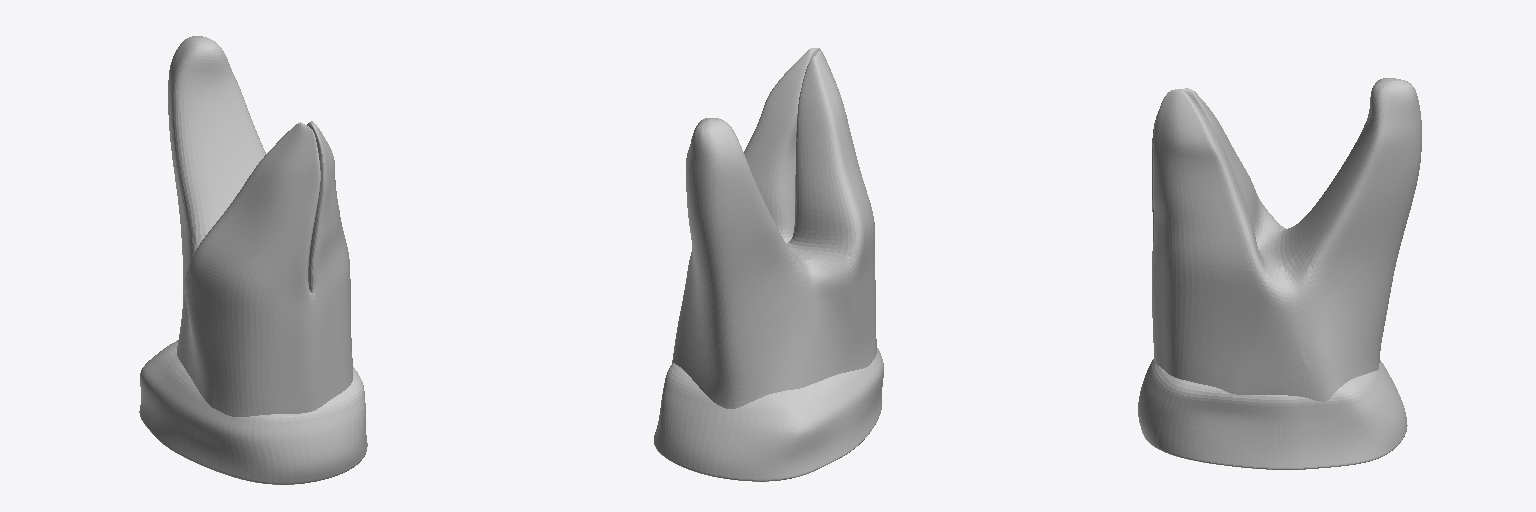
Rendered from Transversal.obj.
3 renders of one model, left to right at view 1: azimuth 30°, elevation 25°; view 2: azimuth 150°, elevation 25°; view 3: azimuth 270°, elevation 25°, orthographic.
Visible parts, largest first — view 1: Cylinder, Cylinder.001; view 2: Cylinder, Cylinder.001; view 3: Cylinder, Cylinder.001.
Part boxes in pixels (x1,y1,x2,y2): Cylinder: (168, 36, 352, 416); Cylinder.001: (139, 340, 367, 484); Cylinder: (672, 48, 876, 408); Cylinder.001: (654, 348, 883, 481); Cylinder: (1152, 78, 1421, 401); Cylinder.001: (1138, 359, 1407, 469).
Size of the model in its own units: 1.97 by 3.81 by 2.78.